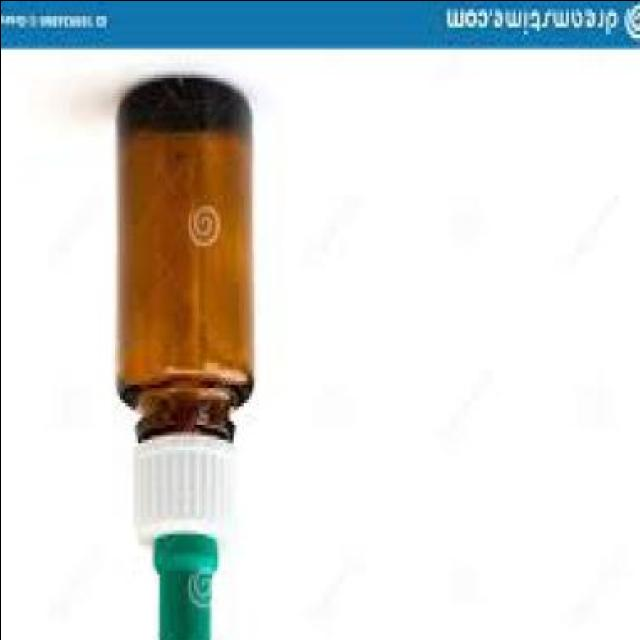kaca: (118, 77, 256, 442)
